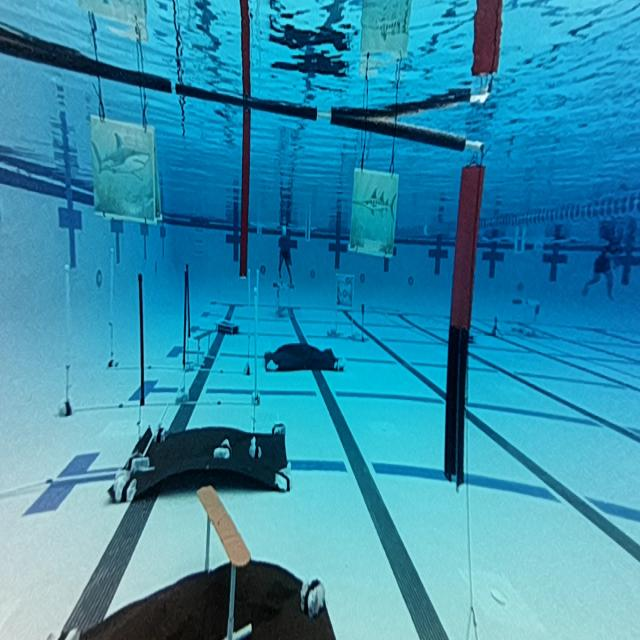pointed_nose: (351, 164, 401, 261)
round_nose: (88, 115, 166, 228)
